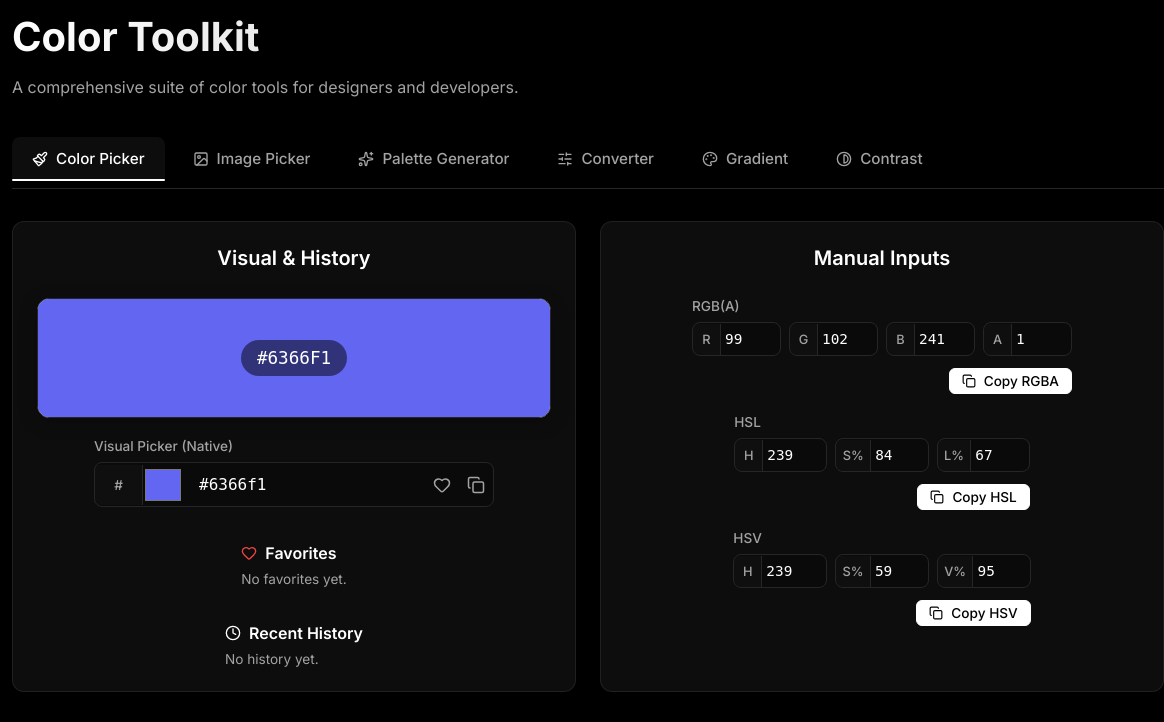
Test: ColorToolkit Page › switches to Converter tab when clicked
Click the button "Converter": (606, 158) [537,137,674,180]
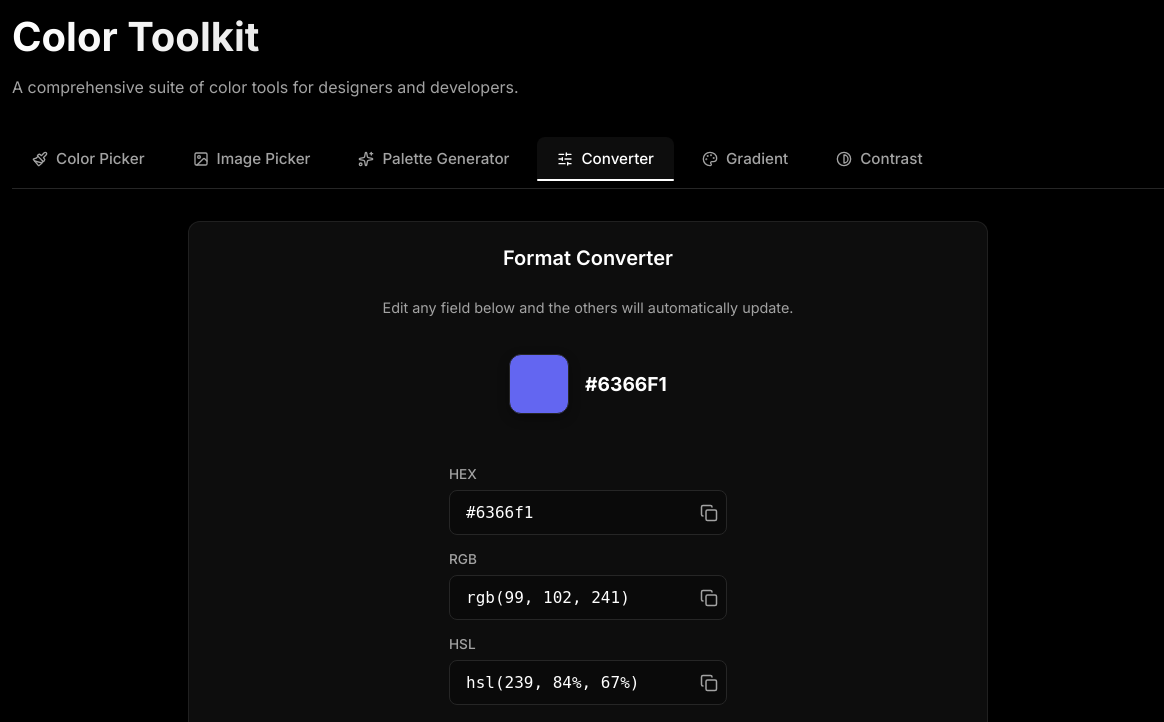
Now the heading "Format Converter" is shown, box [503,246,673,270]
Now the text "Edit any field below" is shown, box [382,299,793,316]
